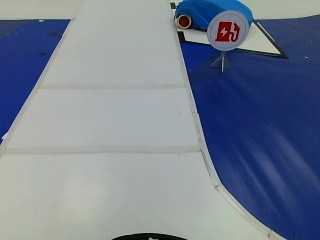battery: (205, 11, 249, 52)
car: (173, 0, 253, 29)
